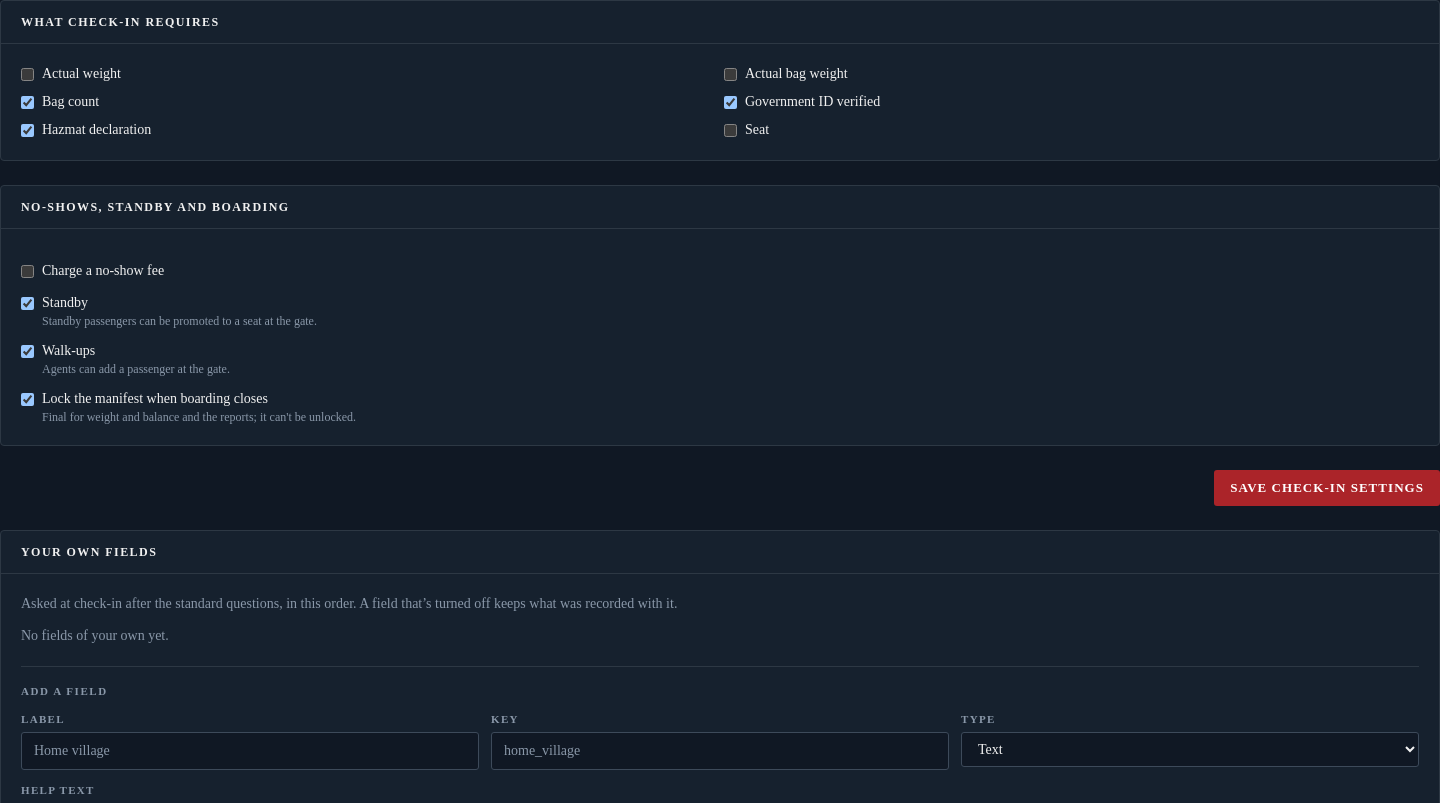
Test: Settings → Check-in (#103) › saves what check-in requires and the no-show fee
This screenshot has width=1440, height=803.
Click the checkbox labelled "Actual weight": click(28, 74) [21,68,34,80]
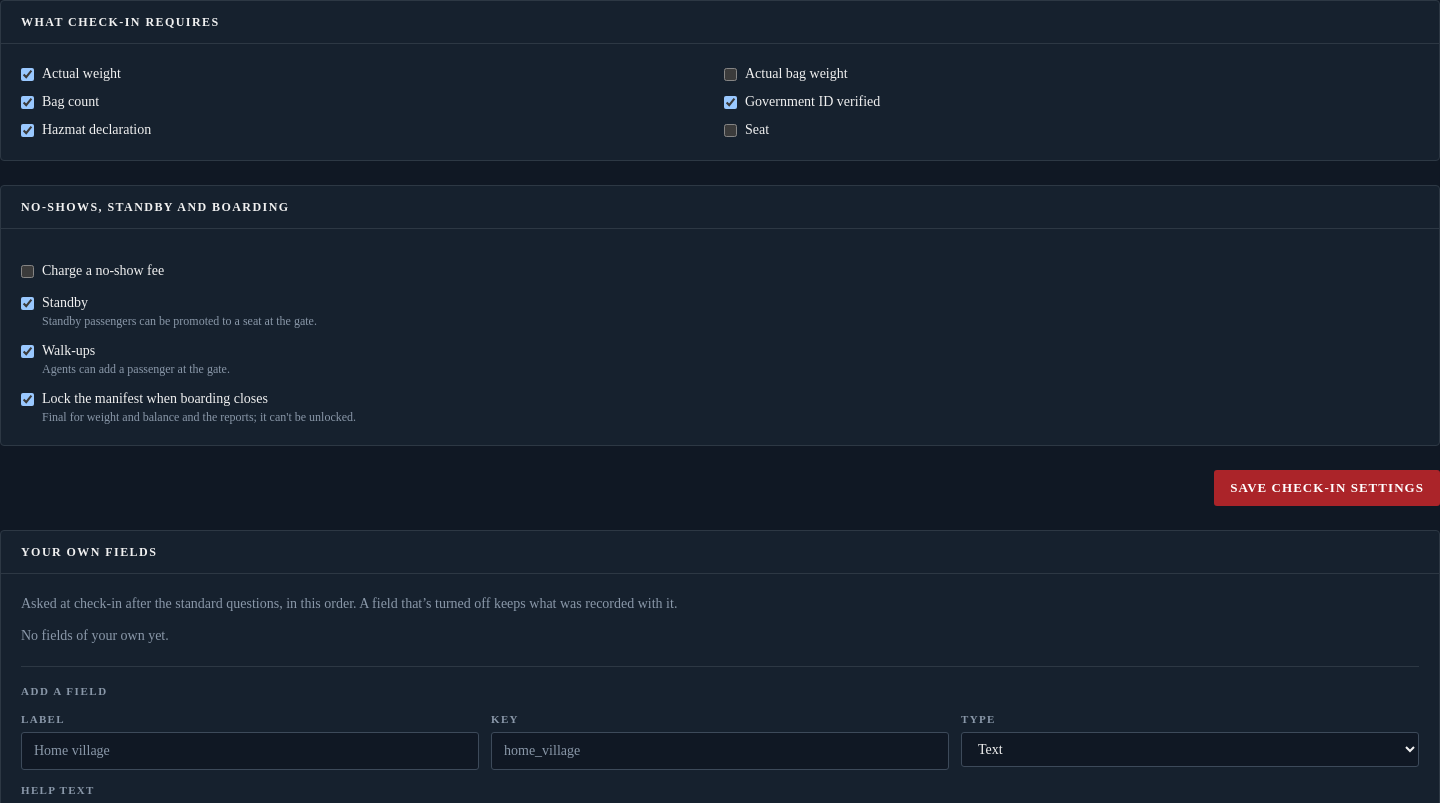
Click the checkbox labelled "Charge a no-show fee": click(28, 271) [21,264,34,278]
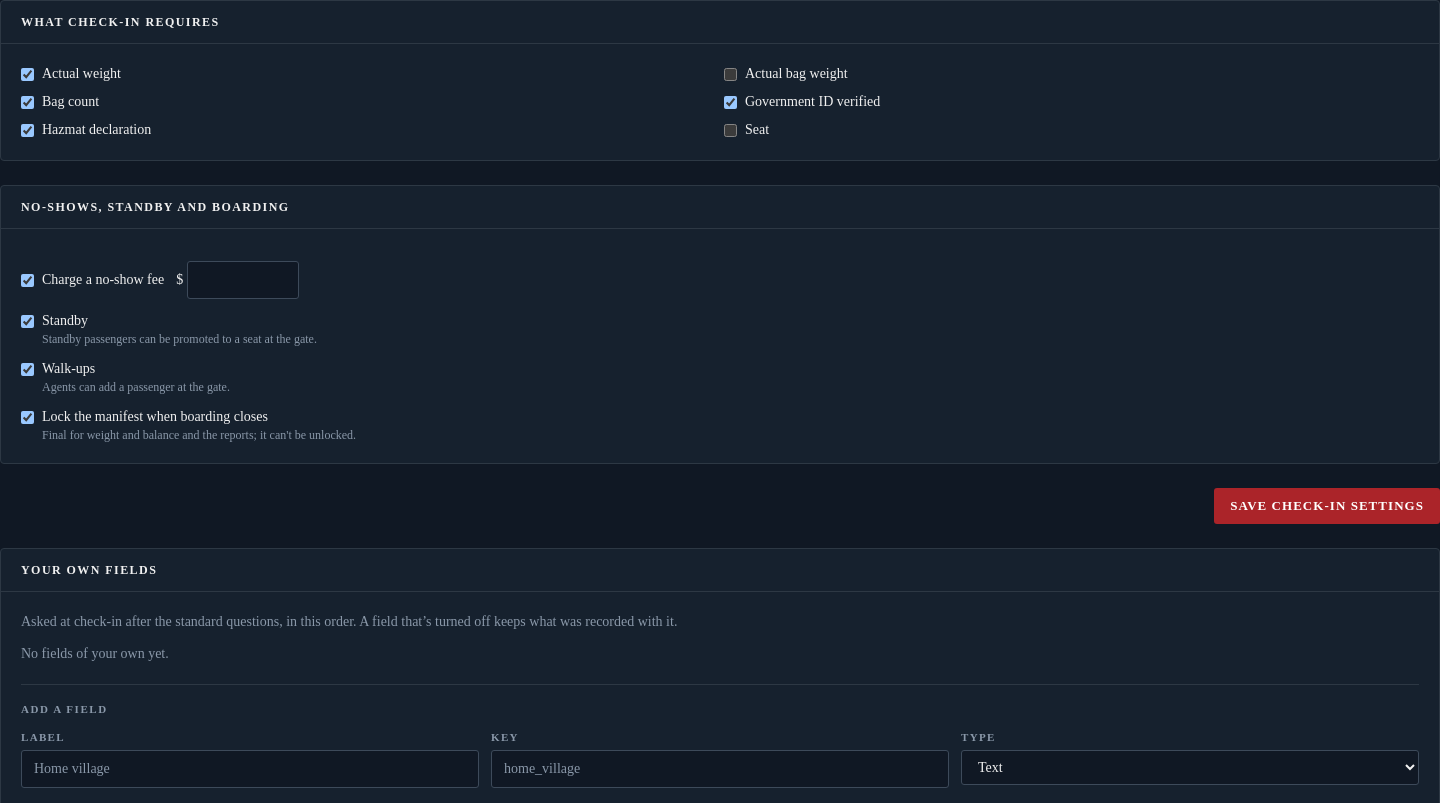
In the number field named "No-show fee in dollars": (243, 280) [187,261,299,299], type "75"
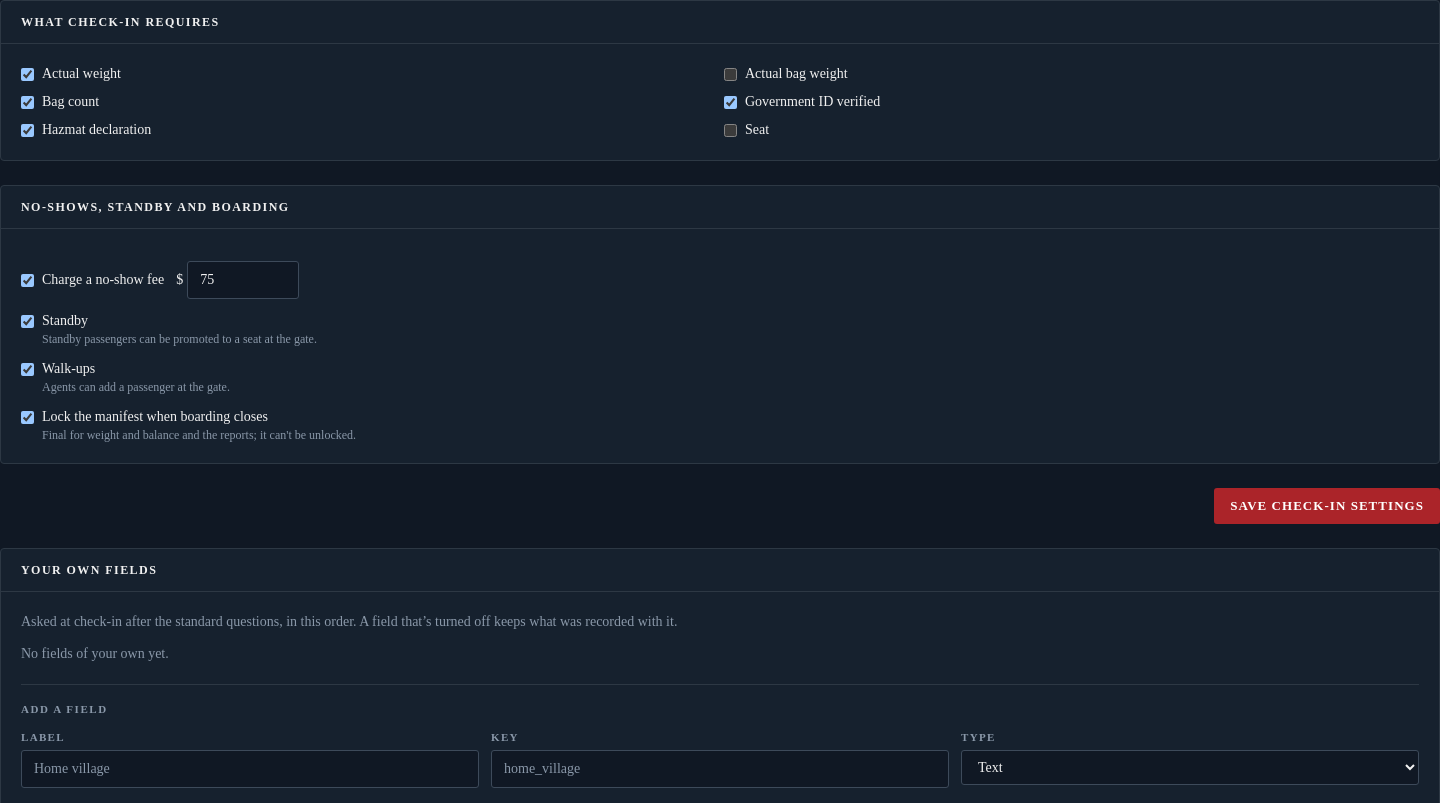
Click the button "Save Check-in Settings": click(1327, 506) [1214,488,1439,524]
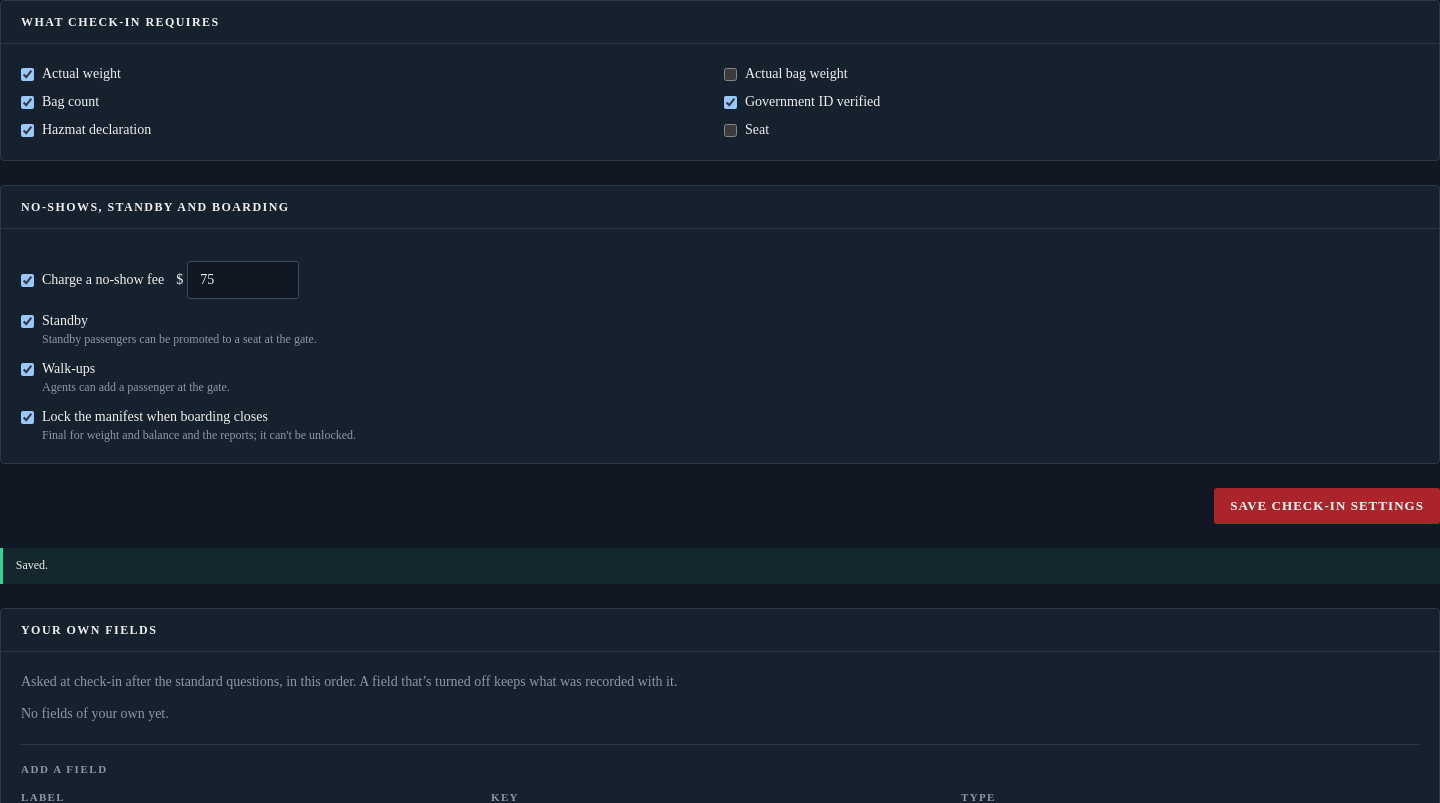
Expected: the text "Saved." is shown, [0,548,1439,584]
